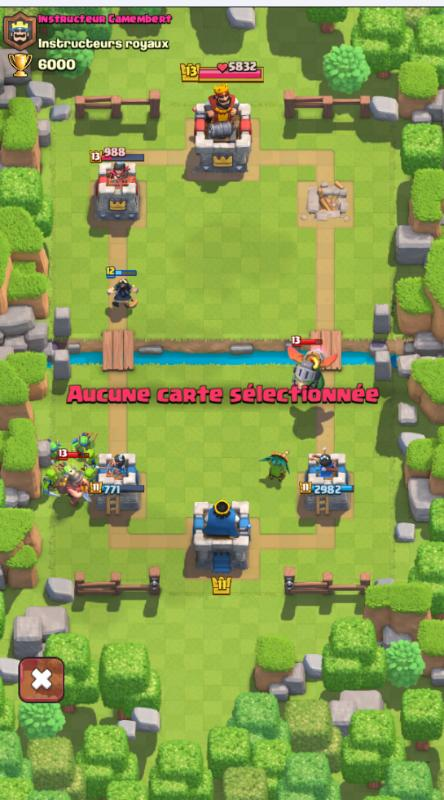gobelin: (36, 457, 65, 502), (77, 457, 101, 498)
gobelin_lances: (35, 426, 71, 470), (65, 426, 103, 464)
